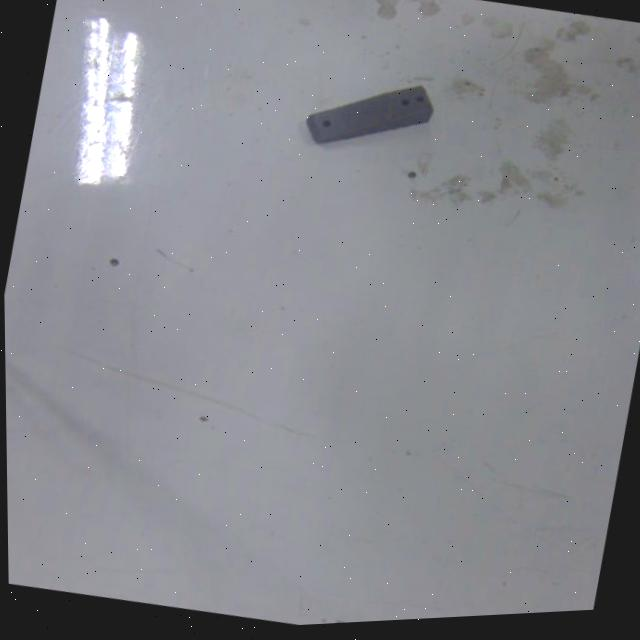grey: (301, 63, 437, 164)
head: (317, 118, 333, 131)
